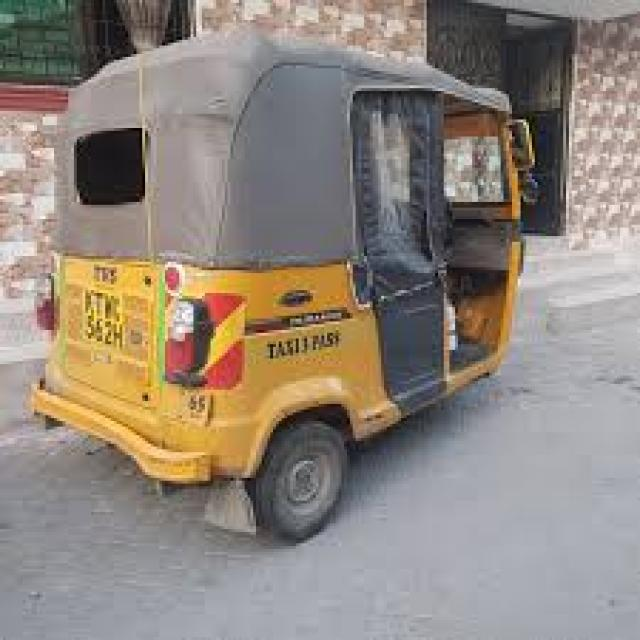tuktuk: (12, 0, 590, 566)
